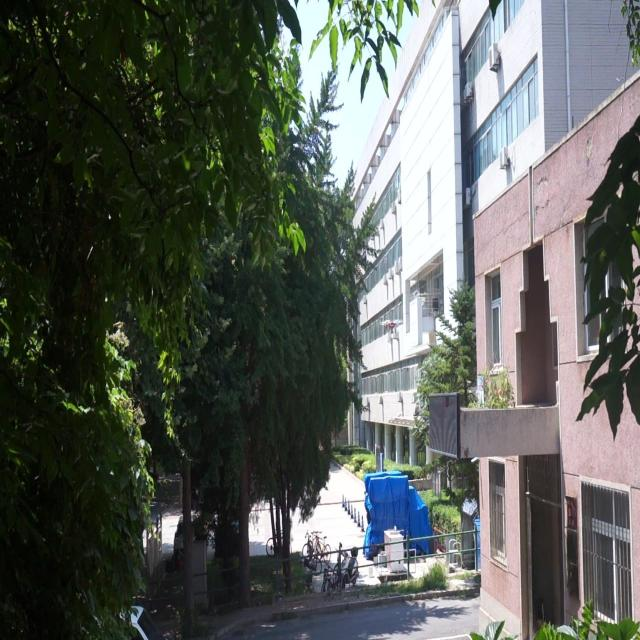drone: (380, 316, 402, 338)
